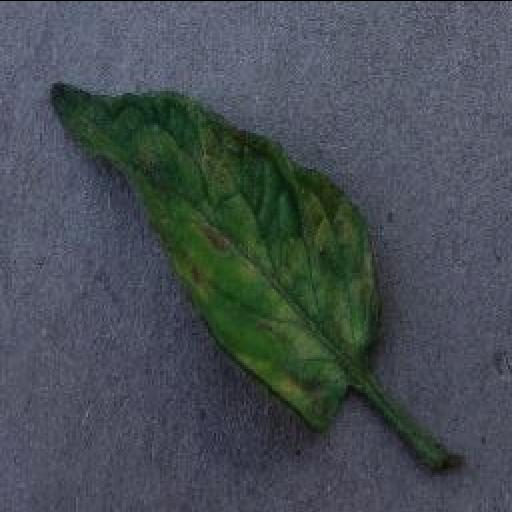disease_tomato: (46, 82, 380, 428)
